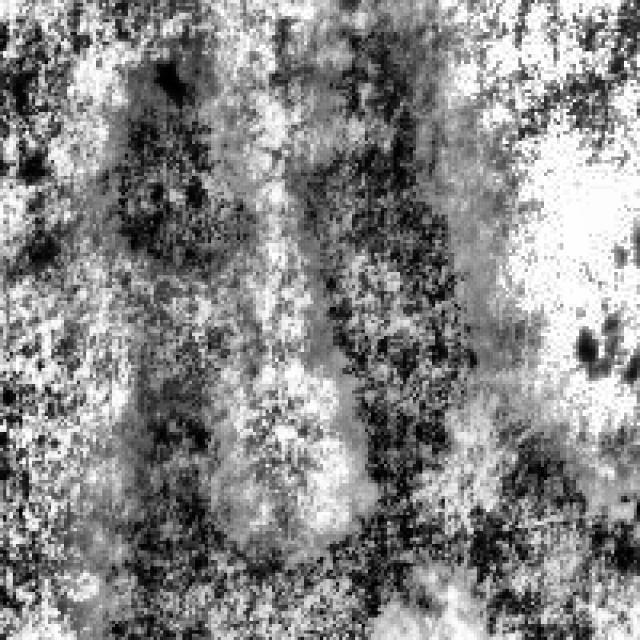Scratches: (288, 3, 586, 630), (96, 371, 327, 637), (83, 42, 250, 288)
